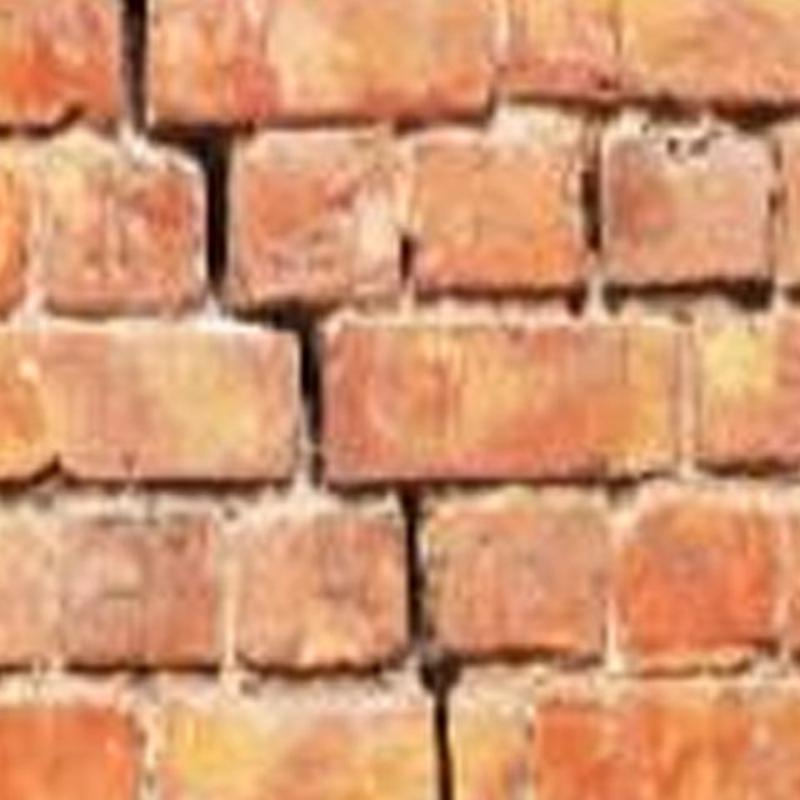crack: (123, 0, 462, 800)
